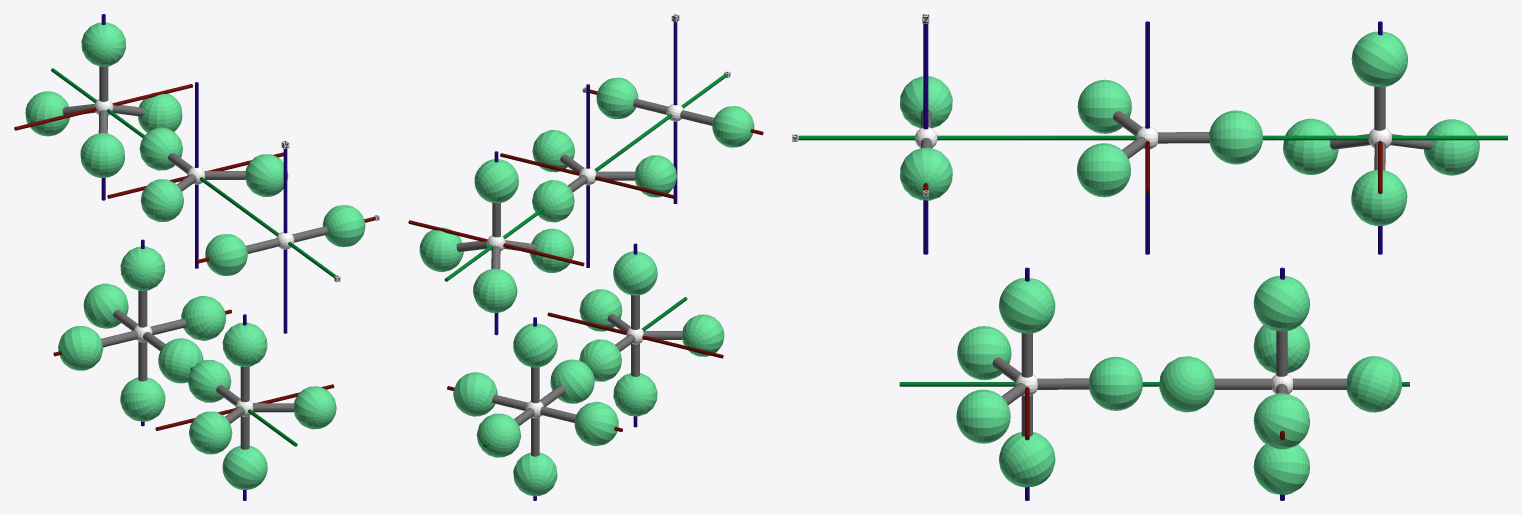
File: geometria_segun_TRPEV2.gltf
3 views of the same model, side by side, from view 1: azimuth 30°, elevation 25°; view 2: azimuth 150°, elevation 25°; view 3: azimuth 270°, elevation 25° (orthographic). The views are drawn at different scales.
Parts seen in each view (by area): view 1: ShapeSphere.015_ShapeSphere.016, ShapeCylinder.014_ShapeCylinder.027, ShapeCylinder.016_ShapeCylinder.029, ShapeCylinder.004_ShapeCylinder.024, ShapeCylinder.002, ShapeCylinder.015_ShapeCylinder.028, ShapeCylinder.005_ShapeCylinder.025, ShapeCylinder.009_ShapeCylinder.026, ShapeSphere.008_ShapeSphere.010, ShapeSphere.005_ShapeSphere.006, ShapeSphere.010_ShapeSphere.012, ShapeSphere.002_ShapeSphere.003 (+8 smaller); view 2: ShapeSphere.015_ShapeSphere.016, ShapeCylinder.016_ShapeCylinder.029, ShapeCylinder.004_ShapeCylinder.024, ShapeCylinder.014_ShapeCylinder.027, ShapeCylinder.002, ShapeCylinder.015_ShapeCylinder.028, ShapeCylinder.005_ShapeCylinder.025, ShapeCylinder.009_ShapeCylinder.026, Cylinder_004_001.002_Cylinder.000, ShapeSphere.010_ShapeSphere.012, ShapeSphere.009_ShapeSphere.011, ShapeSphere.004_ShapeSphere.005 (+8 smaller); view 3: ShapeSphere.015_ShapeSphere.016, ShapeCylinder.009_ShapeCylinder.026, ShapeCylinder.005_ShapeCylinder.025, ShapeCylinder.004_ShapeCylinder.024, ShapeCylinder.002, ShapeCylinder.015_ShapeCylinder.028, ShapeSphere.009_ShapeSphere.011, Cylinder_004_001_Cylinder.013, ShapeSphere.004_ShapeSphere.005, ShapeSphere.006_ShapeSphere.008, ShapeCylinder.014_ShapeCylinder.027, ShapeSphere.010_ShapeSphere.012 (+8 smaller).
Boxes of the visible parts, bbox=[...] form: ShapeSphere.015_ShapeSphere.016: bbox=[188, 322, 336, 489]; ShapeCylinder.014_ShapeCylinder.027: bbox=[120, 341, 165, 421]; ShapeCylinder.016_ShapeCylinder.029: bbox=[58, 326, 138, 370]; ShapeCylinder.004_ShapeCylinder.024: bbox=[120, 246, 165, 327]; ShapeCylinder.002: bbox=[81, 22, 126, 101]; ShapeCylinder.015_ShapeCylinder.028: bbox=[150, 295, 225, 340]; ShapeCylinder.005_ShapeCylinder.025: bbox=[83, 283, 138, 330]; ShapeCylinder.009_ShapeCylinder.026: bbox=[143, 332, 203, 383]; ShapeSphere.008_ShapeSphere.010: bbox=[80, 133, 124, 177]; ShapeSphere.005_ShapeSphere.006: bbox=[140, 179, 183, 221]; ShapeSphere.010_ShapeSphere.012: bbox=[25, 91, 69, 136]; ShapeSphere.002_ShapeSphere.003: bbox=[205, 234, 247, 275]; ShapeSphere.015_ShapeSphere.016: bbox=[579, 251, 724, 416]; ShapeCylinder.016_ShapeCylinder.029: bbox=[540, 401, 618, 446]; ShapeCylinder.004_ShapeCylinder.024: bbox=[513, 323, 557, 403]; ShapeCylinder.014_ShapeCylinder.027: bbox=[513, 417, 557, 496]; ShapeCylinder.002: bbox=[474, 159, 518, 237]; ShapeCylinder.015_ShapeCylinder.028: bbox=[453, 372, 527, 416]; ShapeCylinder.005_ShapeCylinder.025: bbox=[476, 408, 534, 457]; ShapeCylinder.009_ShapeCylinder.026: bbox=[539, 359, 594, 406]; Cylinder_004_001.002_Cylinder.000: bbox=[500, 84, 675, 267]; ShapeSphere.010_ShapeSphere.012: bbox=[473, 268, 517, 312]; ShapeSphere.009_ShapeSphere.011: bbox=[419, 227, 463, 271]; ShapeSphere.004_ShapeSphere.005: bbox=[532, 180, 574, 222]; ShapeSphere.015_ShapeSphere.016: bbox=[956, 278, 1142, 487]; ShapeCylinder.009_ShapeCylinder.026: bbox=[1159, 356, 1271, 412]; ShapeCylinder.005_ShapeCylinder.025: bbox=[1293, 356, 1401, 412]; ShapeCylinder.004_ShapeCylinder.024: bbox=[1253, 275, 1310, 376]; ShapeCylinder.002: bbox=[1351, 31, 1407, 130]; ShapeCylinder.015_ShapeCylinder.028: bbox=[1253, 383, 1310, 449]; ShapeSphere.009_ShapeSphere.011: bbox=[1351, 170, 1407, 226]; Cylinder_004_001_Cylinder.013: bbox=[798, 23, 1053, 254]; ShapeSphere.004_ShapeSphere.005: bbox=[1209, 110, 1262, 164]; ShapeSphere.006_ShapeSphere.008: bbox=[1077, 143, 1130, 197]; ShapeCylinder.014_ShapeCylinder.027: bbox=[1253, 444, 1309, 494]; ShapeSphere.010_ShapeSphere.012: bbox=[1424, 119, 1479, 175].
Bounding box in the file's own units: 12.88 × 26.26 × 35.17.
